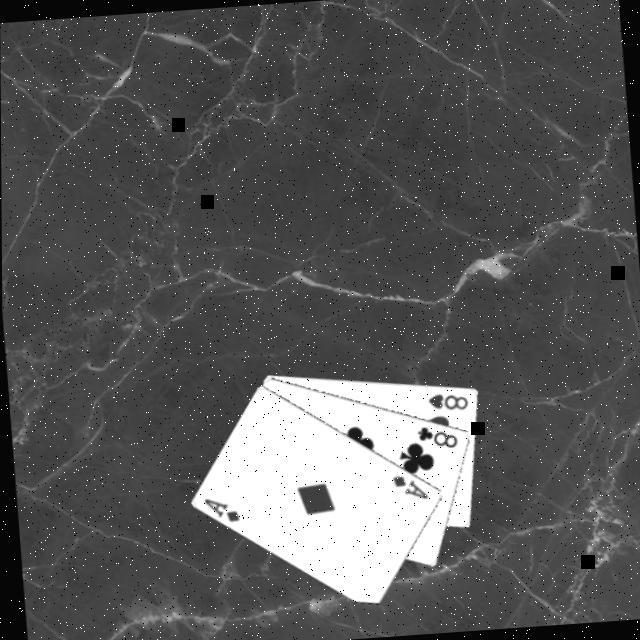8C: (411, 418, 459, 451)
8H: (421, 386, 469, 412)
AD: (386, 468, 428, 502), (198, 490, 240, 524)
